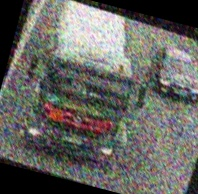truck: (1, 0, 168, 177)
